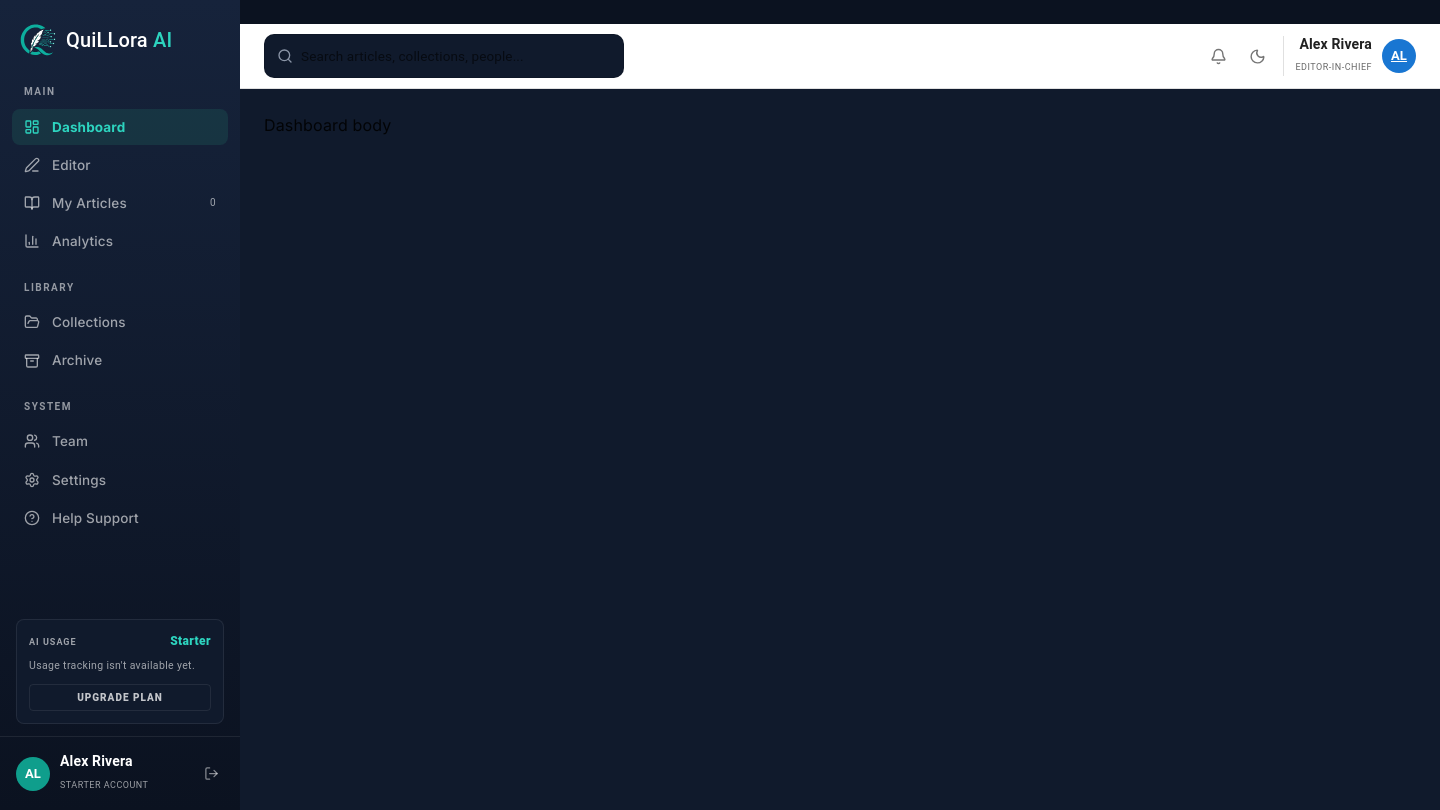
Test: topbar search › submits on Enter and puts the query in the URL
Type "design systems" into the field named "search articles, collections and people". click: {"x": 456, "y": 56}
box: [301,42,611,70]
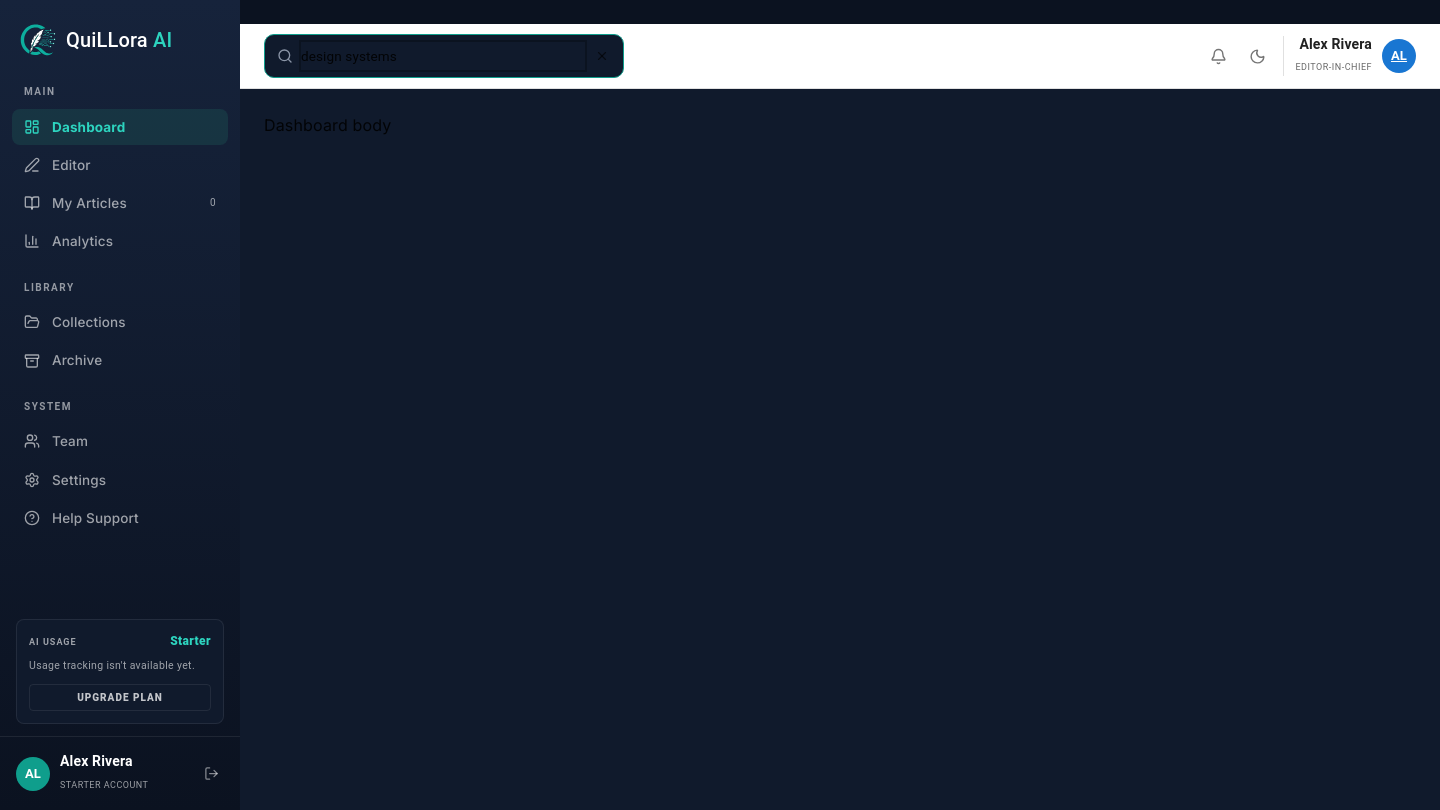
Press Enter
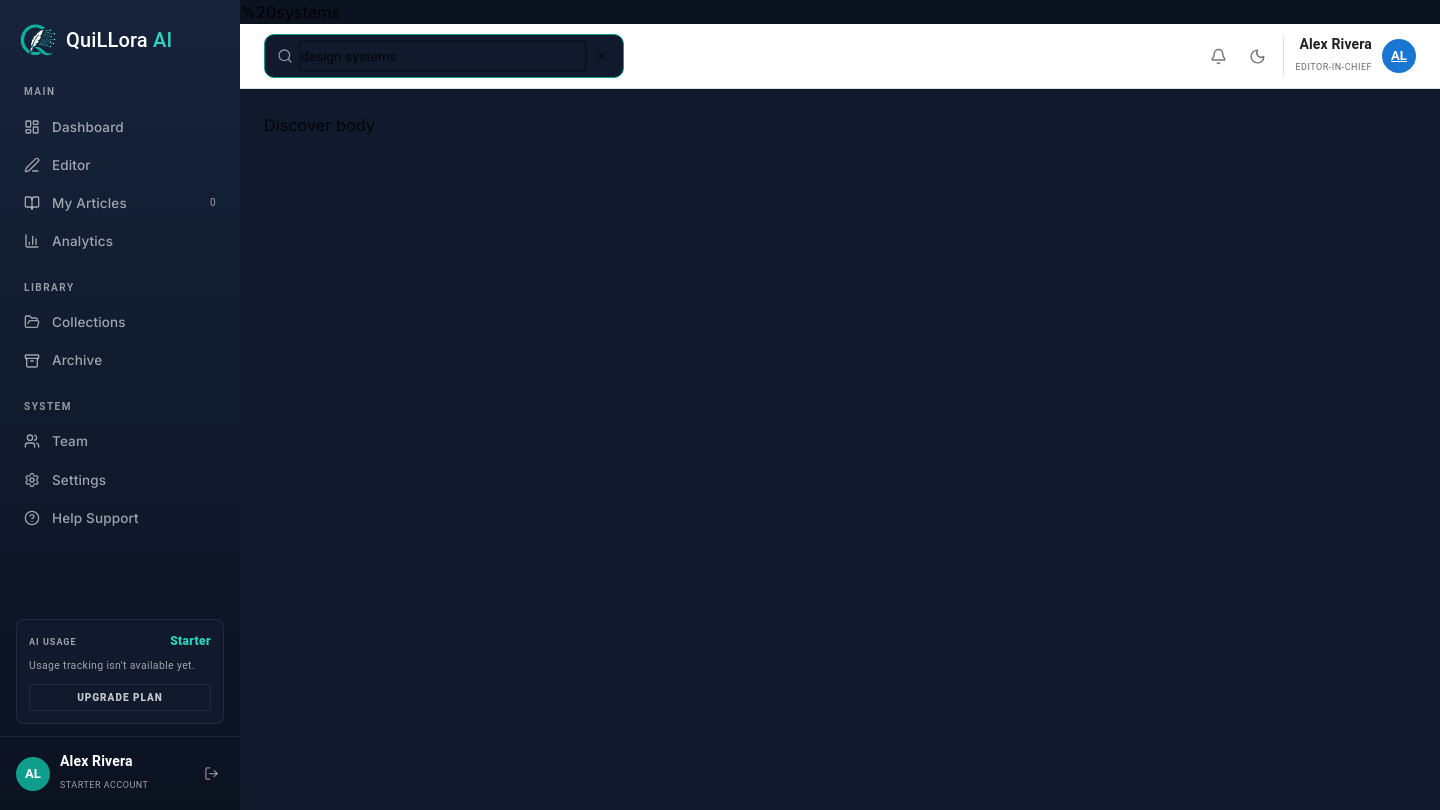
Expected: the text with test id "location" reads "/dashboard/discover?q=design%20systems", [0,2,340,22]
